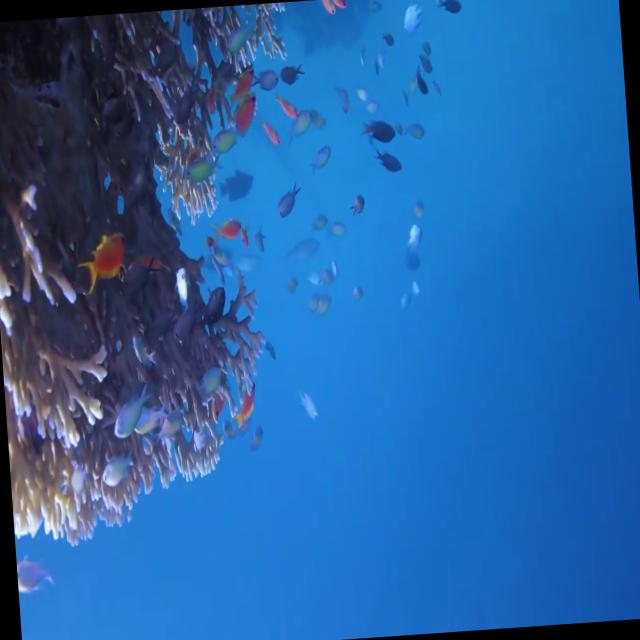fish: (67, 215, 132, 292), (107, 377, 152, 445), (190, 356, 233, 406), (358, 108, 401, 158), (227, 98, 265, 150), (272, 179, 309, 231), (226, 52, 258, 111), (96, 454, 136, 500), (210, 211, 248, 257), (256, 114, 289, 164), (368, 146, 412, 181), (274, 86, 304, 126), (134, 402, 167, 436), (432, 0, 460, 25)
